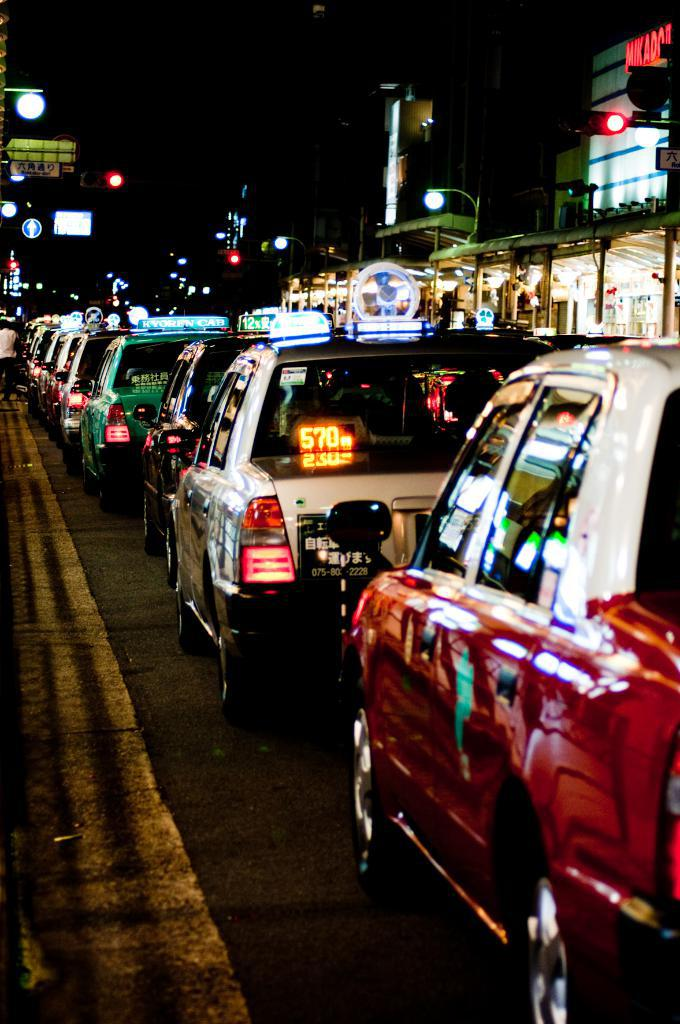taxi: (21, 325, 680, 1024)
